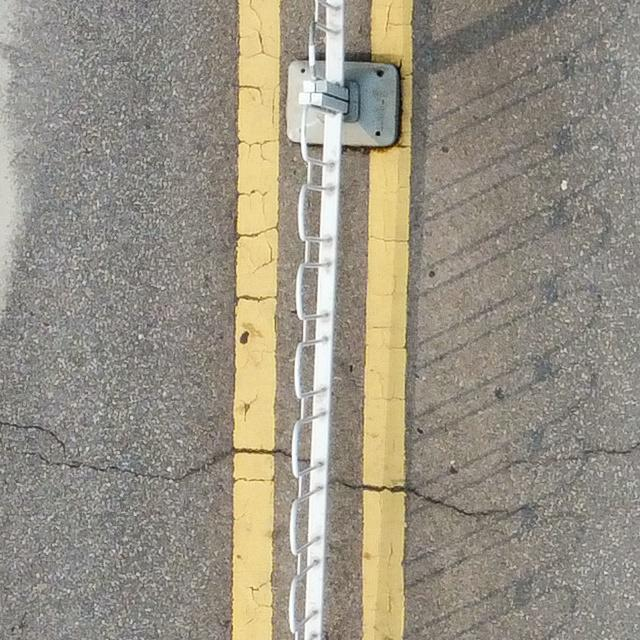TransverseCrack: (3, 420, 535, 517), (538, 436, 640, 467)
